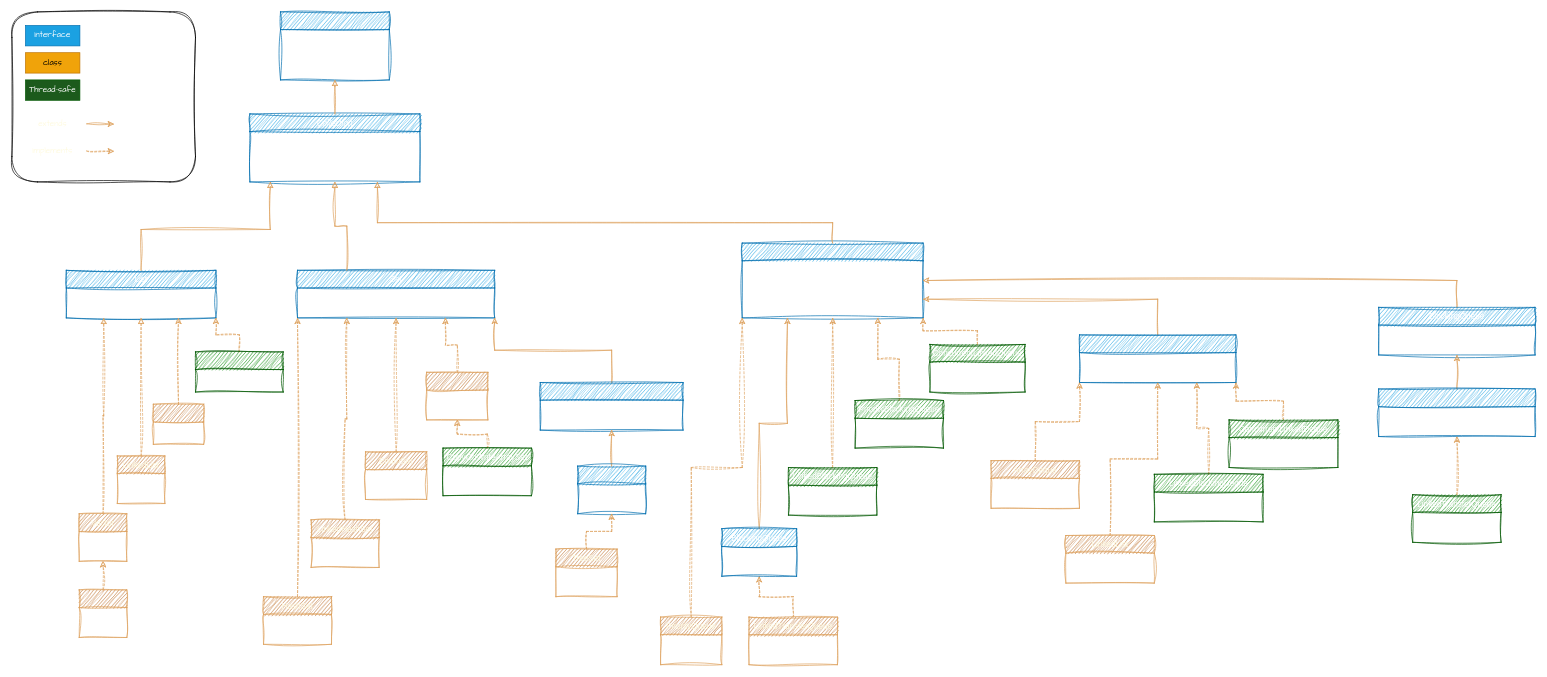
Some shapes in this 1547 by 677 pixel diagram are drawn without their labels. Each missing label, with the centre of its shape:
AbstractSet: point (457, 396)
ArrayList: point (178, 424)
CopyOnWriteArrayList: point (239, 371)
Deque: point (1157, 358)
Iterable: point (334, 45)
NavigableSet: point (611, 489)
Queue: point (832, 280)
SortedSet: point (611, 406)
Stack: point (103, 613)
TransferQueue: point (1456, 412)
